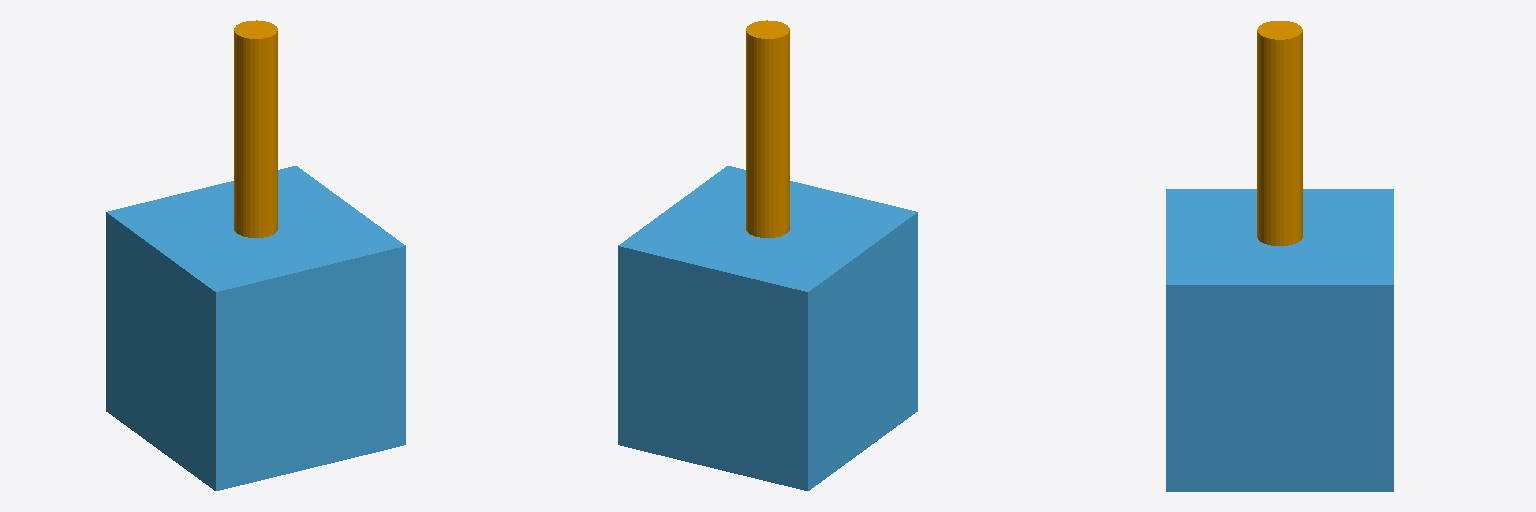
URDF robot description (PlanarUrdf):
<robot name="PlanarUrdf">
  <link name="arm">
    <inertial>
      <origin xyz="0 0 0.10" rpy="0 0 0"/>
      <mass value="0.50"/>
      <inertia ixx="0.001" iyy="0.001" izz="0.001" ixy="0" ixz="0" iyz="0"/>
    </inertial>
    <visual><geometry><cylinder radius="0.02" length="0.2"/></geometry></visual>
    <collision><geometry><cylinder radius="0.02" length="0.2"/></geometry></collision>
  </link>
  <link name="base">
    <inertial>
      <origin xyz="0 0 0" rpy="0 0 0"/>
      <mass value="1.0"/>
      <inertia ixx="0.01" iyy="0.01" izz="0.01" ixy="0" ixz="0" iyz="0"/>
    </inertial>
    <visual><geometry><box size="0.2 0.2 0.2"/></geometry></visual>
    <collision><geometry><box size="0.2 0.2 0.2"/></geometry></collision>
  </link>
  <joint name="shoulder" type="revolute">
    <parent link="base"/><child link="arm"/>
    <origin xyz="0 0 0.2" rpy="0 0 0"/>
    <axis xyz="0 0 1"/>
    <limit lower="-1" upper="1" velocity="2" effort="5"/>
  </joint>
  <ros2_control name="InvarHardware" type="system">
    <hardware><plugin>mujoco_ros2_control/MujocoSystemInterface</plugin><param name="mujoco_model">scene.xml</param></hardware>
    <joint name="shoulder">
      <command_interface name="position"/>
      <state_interface name="position"/>
      <state_interface name="velocity"/>
    </joint>
  </ros2_control>
</robot>

--- Facts derived from the render (not from the file) ---
Views: 3 orthographic renders of the robot side by side, from view 1: azimuth 30°, elevation 25°; view 2: azimuth 150°, elevation 25°; view 3: azimuth 270°, elevation 25°.
Model PlanarUrdf with 2 links and 1 joints (1 revolute), rooted at base, posed every joint at zero.
Links seen in each view (by area): view 1: base, arm; view 2: base, arm; view 3: base, arm.
Link boxes in pixels (bbox=[...]): base: bbox=[106, 166, 405, 490]; arm: bbox=[234, 20, 277, 237]; base: bbox=[618, 166, 917, 490]; arm: bbox=[746, 20, 789, 237]; base: bbox=[1166, 189, 1393, 491]; arm: bbox=[1257, 21, 1302, 245].
Size in the robot's own frame: 0.2 by 0.2 by 0.4 metres.
Geometry: primitives only (box / cylinder / sphere), no mesh files.
